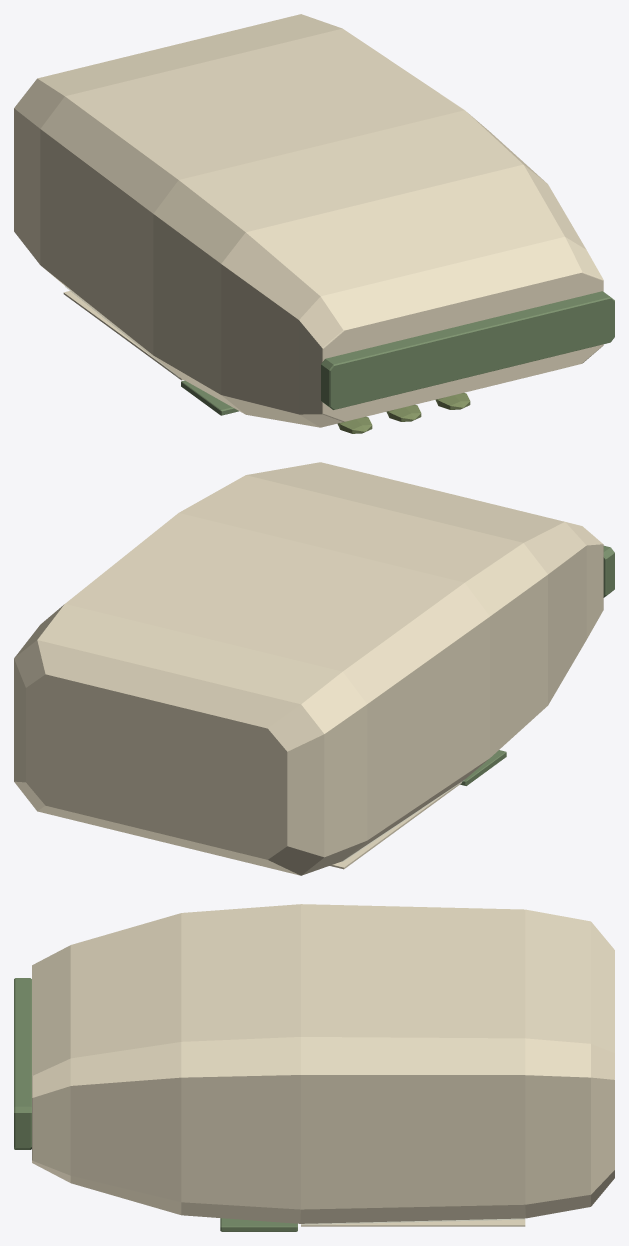
Rendered from green_lentils.glb.
3 views of the same model, one above another, from view 1: azimuth 30°, elevation 25°; view 2: azimuth 150°, elevation 25°; view 3: azimuth 270°, elevation 25° (orthographic). The views are drawn at different scales.
Parts seen in each view (by area): view 1: green_lentils; view 2: green_lentils; view 3: green_lentils.
Part boxes in pixels (x1=…): green_lentils: x1=14, y1=14, x2=614, y2=433; green_lentils: x1=14, y1=462, x2=614, y2=875; green_lentils: x1=14, y1=904, x2=614, y2=1231.
Bounding box in the file's own units: 0.1236 × 0.0746 × 0.201.
